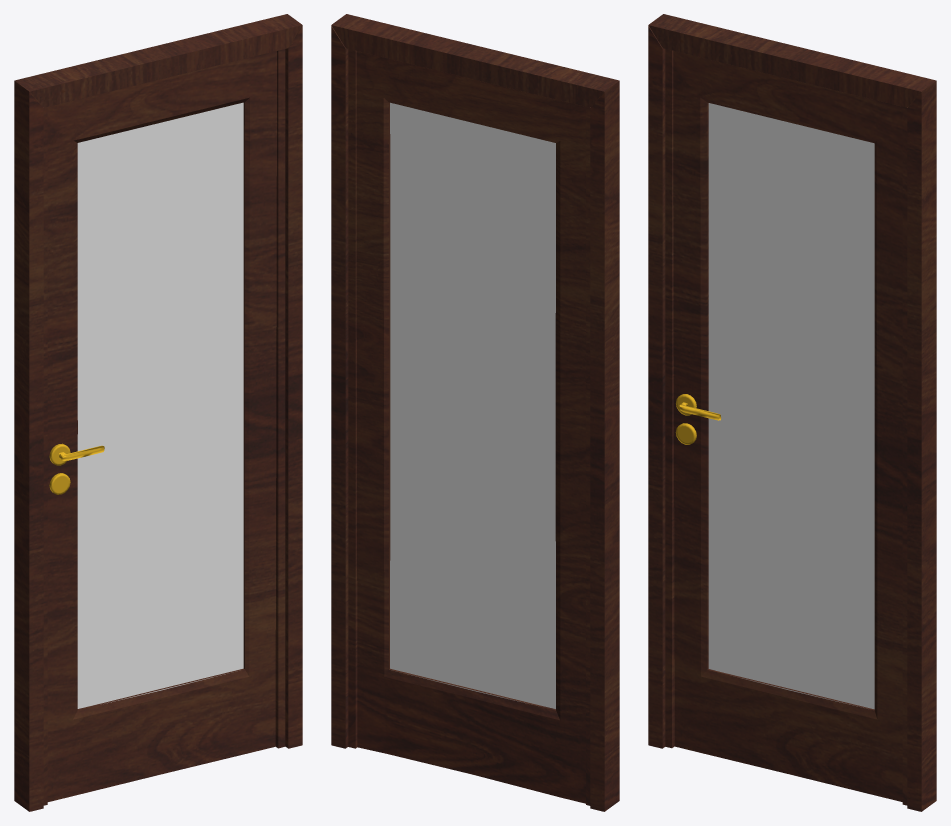
File: PUERTA39_CAMPANIA.glb
3 views of the same model, side by side, from view 1: azimuth 30°, elevation 25°; view 2: azimuth 150°, elevation 25°; view 3: azimuth 330°, elevation 25° (orthographic).
Parts seen in each view (by area): view 1: Puerta39_cristales, Puerta39_CAMPANIA, Puerta39_Marco, Puerta39_Cerradura; view 2: Puerta39_cristales, Puerta39_CAMPANIA, Puerta39_Marco; view 3: Puerta39_cristales, Puerta39_CAMPANIA, Puerta39_Marco, Puerta39_Cerradura.
Part boxes in pixels (x1,y1,x2,y2): Puerta39_cristales: (77, 102, 243, 708); Puerta39_CAMPANIA: (43, 49, 285, 805); Puerta39_Marco: (14, 14, 302, 811); Puerta39_Cerradura: (49, 443, 104, 494); Puerta39_cristales: (390, 102, 555, 708); Puerta39_CAMPANIA: (348, 49, 590, 805); Puerta39_Marco: (331, 14, 619, 811); Puerta39_cristales: (708, 103, 874, 709); Puerta39_CAMPANIA: (665, 49, 907, 805); Puerta39_Marco: (648, 14, 936, 811); Puerta39_Cerradura: (675, 394, 721, 444).
Bounding box in the file's own units: 769 × 1936 × 85.
4 materials, 2 textured.
